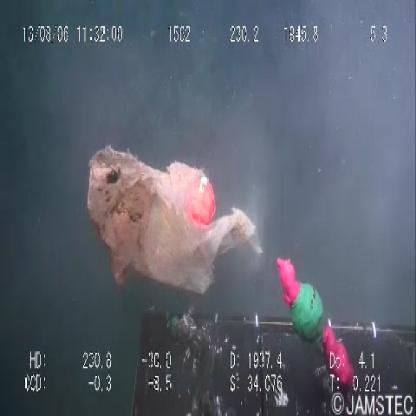Rov: (129, 252, 416, 416)
Rác: (80, 139, 272, 308)
